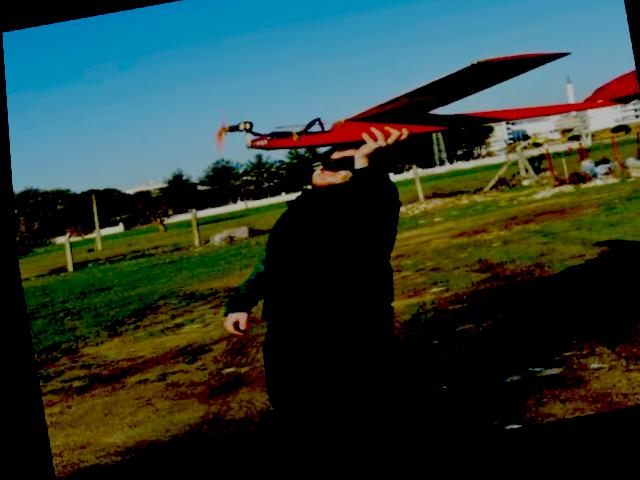iha: (192, 21, 640, 196)
